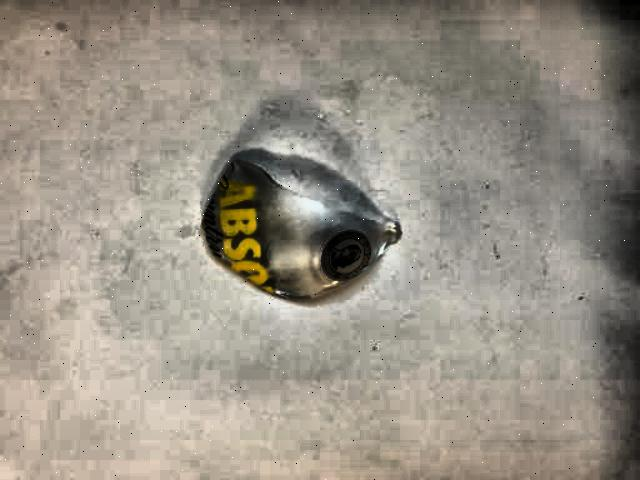Almennt: (175, 129, 417, 319)
